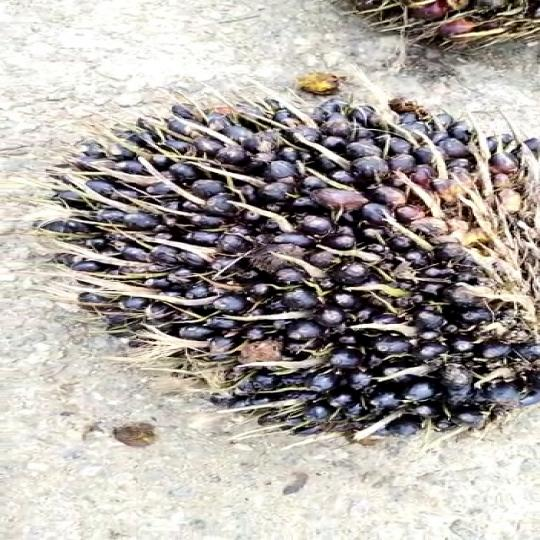mentah: (44, 100, 540, 453)
